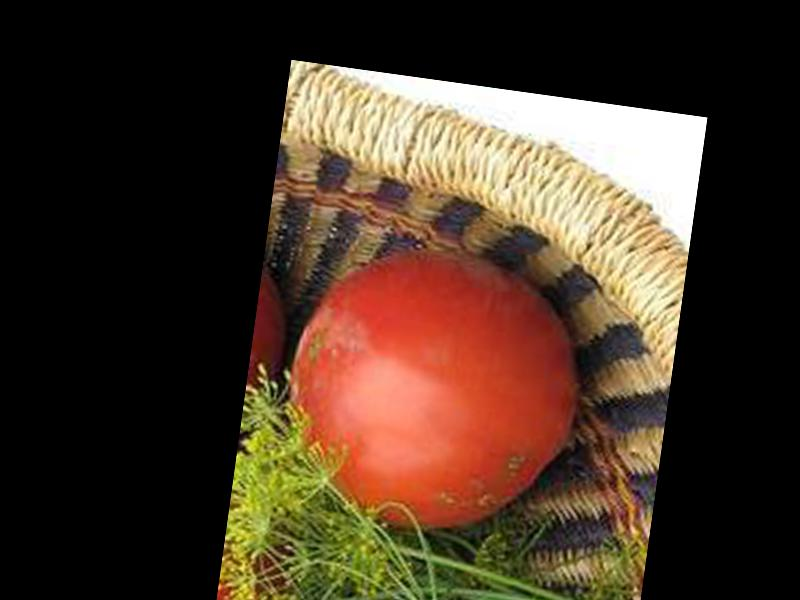Tomato: (271, 232, 591, 550)
